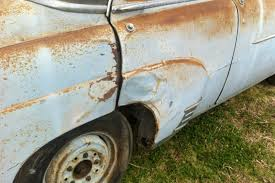rust: (141, 14, 243, 36), (50, 30, 117, 48), (109, 50, 119, 91)
